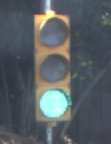Green: (21, 14, 84, 134)
